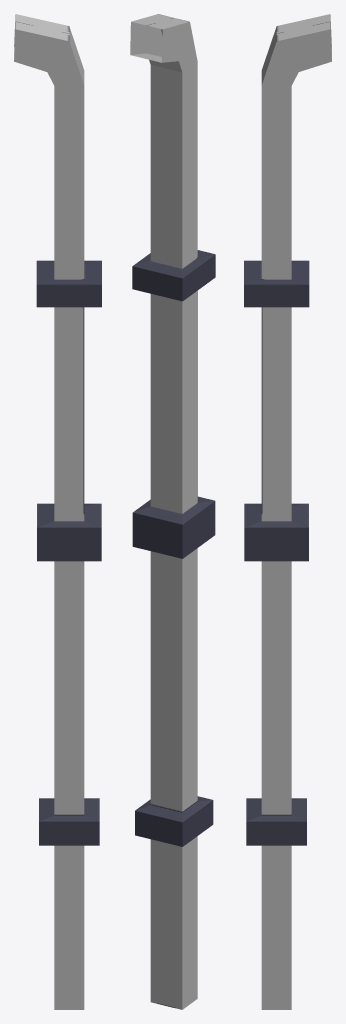
Rendered from Pipe.glb.
3 renders of one model, left to right at view 1: azimuth 90°, elevation 25°; view 2: azimuth 150°, elevation 25°; view 3: azimuth 270°, elevation 25°, orthographic.
Parts seen in each view (by area): view 1: Cube.001; view 2: Cube.001; view 3: Cube.001.
Part boxes in pixels (box(x1,y1,x2,y2)): Cube.001: box(14, 14, 101, 1009); Cube.001: box(130, 14, 215, 1009); Cube.001: box(244, 14, 331, 1009).
Bounding box in the file's own units: 0.0931 × 1.76 × 0.1428.
2 materials, 2 textured.
